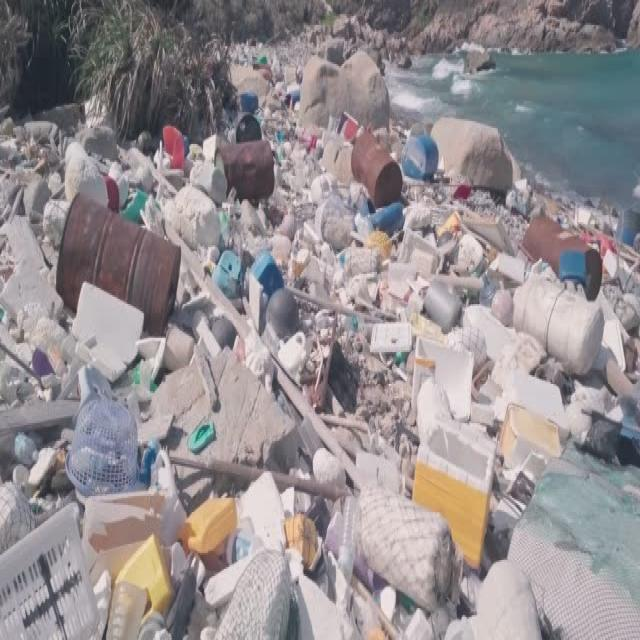metal: (57, 187, 182, 325), (529, 206, 604, 302), (349, 133, 400, 203), (211, 144, 279, 194)
plastic: (63, 374, 549, 620)
